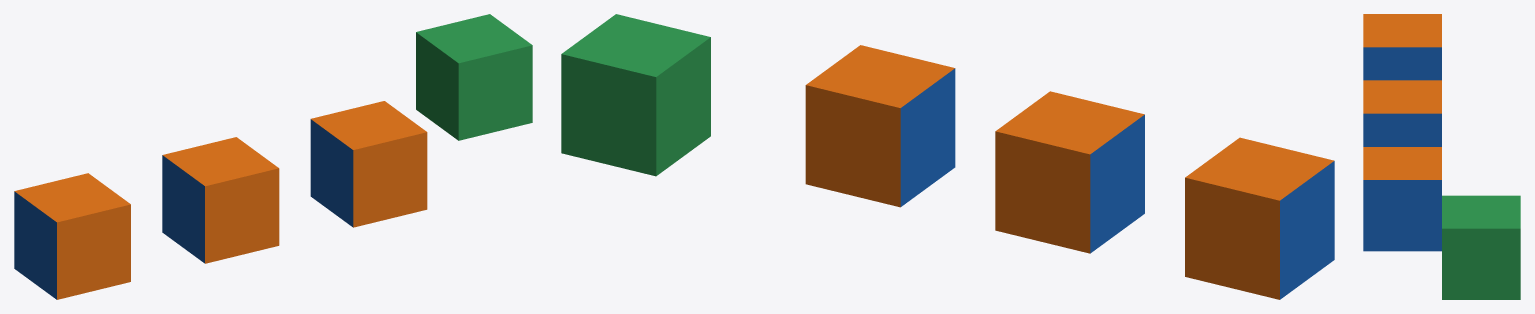
The model's file is large-origin.fbx.
3 views of the same model, side by side, from view 1: azimuth 30°, elevation 25°; view 2: azimuth 150°, elevation 25°; view 3: azimuth 270°, elevation 25° (orthographic). The views are drawn at different scales.
Visible parts, largest first — view 1: Pump Instance B, Pump Instance A, Buffer Tank, Primary Pump; view 2: Pump Instance B, Buffer Tank, Primary Pump, Pump Instance A; view 3: Buffer Tank, Pump Instance B, Primary Pump, Pump Instance A.
Boxes of the visible parts, <box> form: Pump Instance B: <box>310,101,427,227</box>; Pump Instance A: <box>162,137,279,263</box>; Buffer Tank: <box>416,14,532,140</box>; Primary Pump: <box>14,173,130,299</box>; Pump Instance B: <box>805,45,955,207</box>; Buffer Tank: <box>561,14,710,176</box>; Primary Pump: <box>1185,137,1334,299</box>; Pump Instance A: <box>995,91,1144,253</box>; Buffer Tank: <box>1442,195,1520,299</box>; Pump Instance B: <box>1363,147,1441,251</box>; Primary Pump: <box>1363,14,1441,80</box>; Pump Instance A: <box>1363,80,1441,146</box>.
Size of the model in its own units: 700 by 125 by 200.
